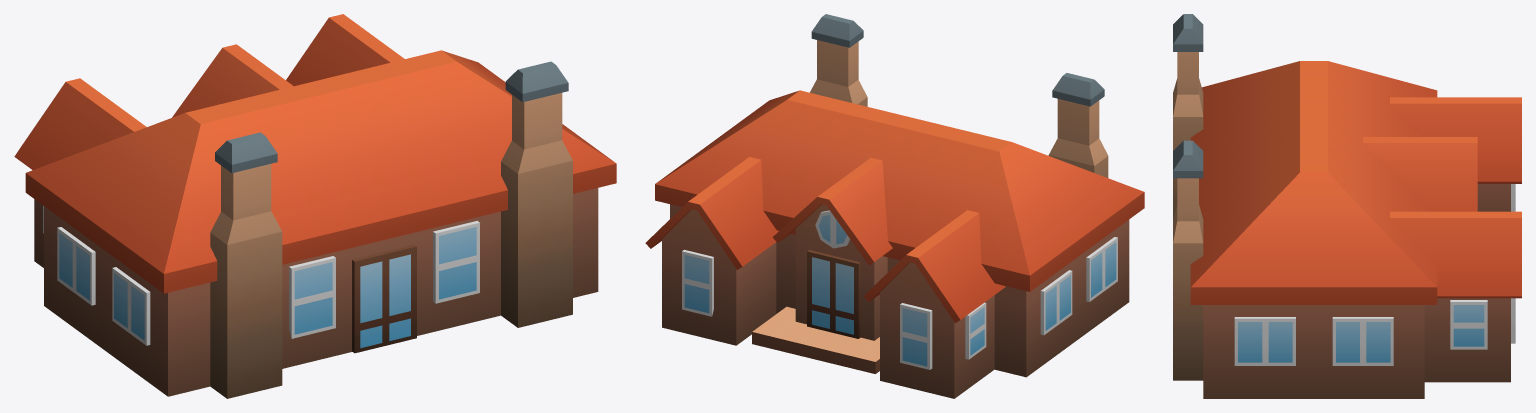
The model's file is building-model-09.glb.
3 views of the same model, side by side, from view 1: azimuth 30°, elevation 25°; view 2: azimuth 150°, elevation 25°; view 3: azimuth 270°, elevation 25° (orthographic). The views are drawn at different scales.
Parts seen in each view (by area): view 1: building-model-09; view 2: building-model-09; view 3: building-model-09.
Part boxes in pixels (box(x1,y1,x2,y2)): building-model-09: box(14, 14, 616, 398); building-model-09: box(645, 14, 1144, 398); building-model-09: box(1173, 14, 1521, 398).
Bounding box in the file's own units: 11.09 × 5.8 × 8.3.
1 material, 1 textured.
